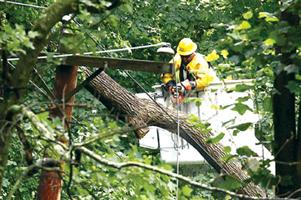person: (160, 38, 216, 94)
